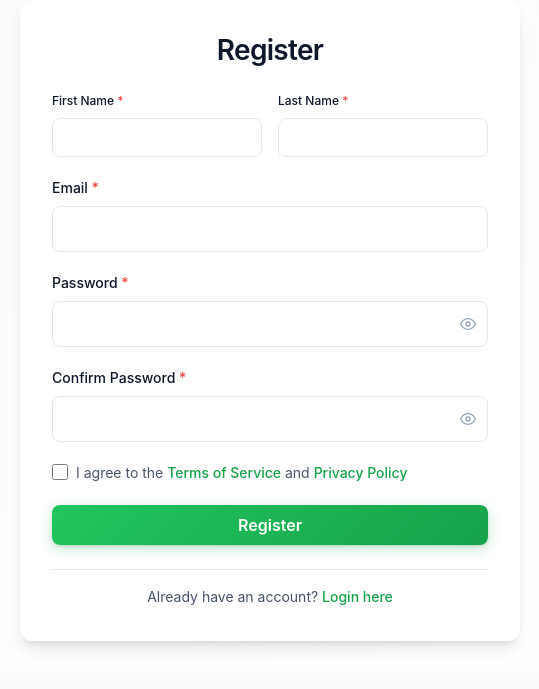
RegisterPage › clears a field error as soon as the user types
Click the button "Register" at (270, 525), box [52,505,488,545]
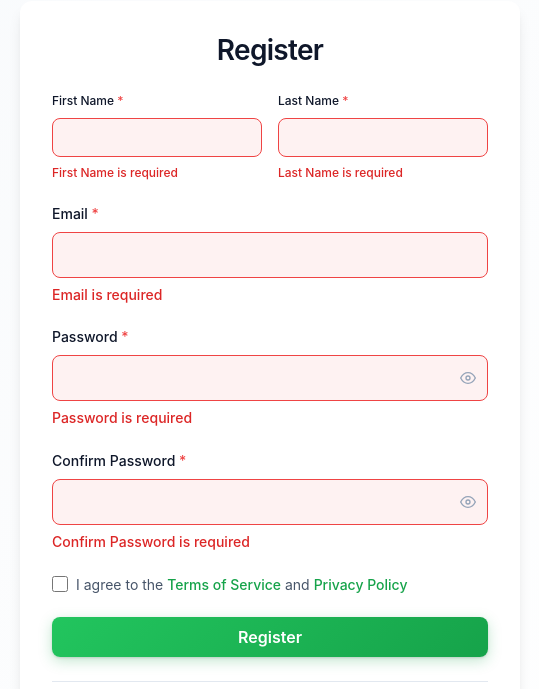
Expected: the text "Email is required" is shown, [52,286,162,302]
Type "a" into the field labelled "Email" at (270, 254), box [52,232,488,278]
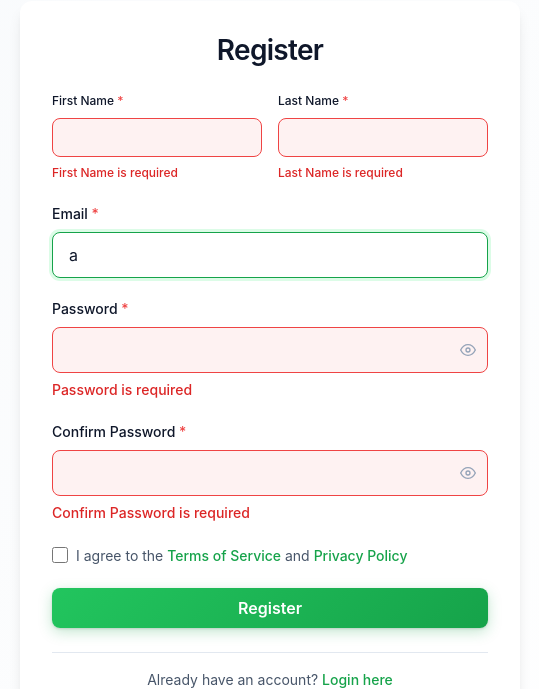
Expected: the text "Email is required" is gone
